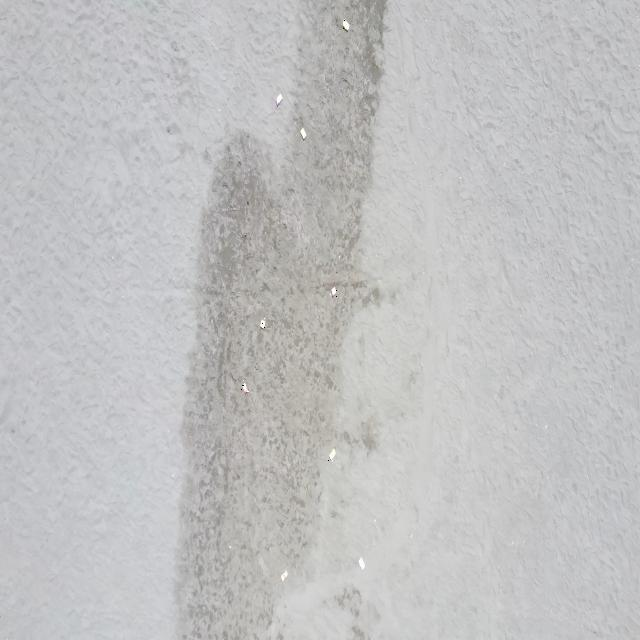retort-pouch: (274, 91, 284, 108), (241, 380, 249, 396), (330, 284, 338, 299), (342, 18, 350, 32), (328, 447, 336, 461), (300, 126, 307, 141), (260, 318, 266, 332)
